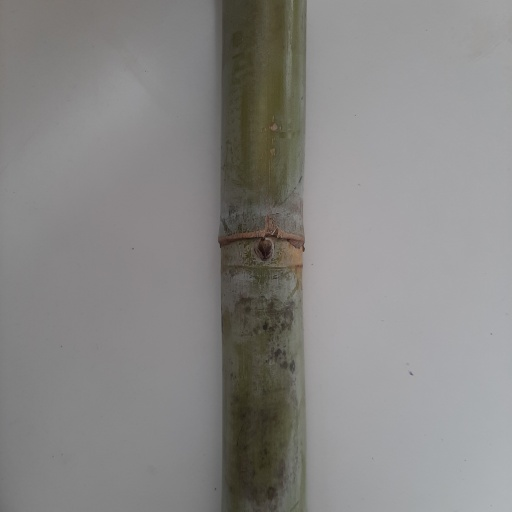Bud: (254, 236, 274, 262)
